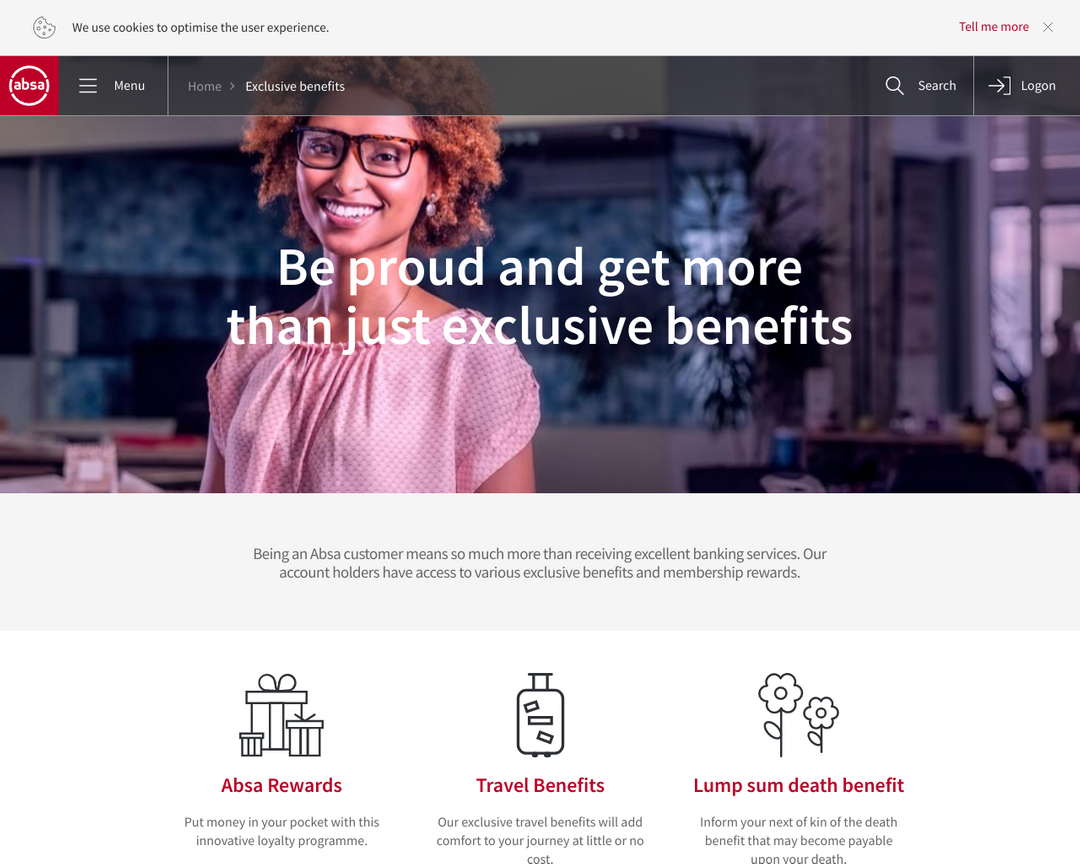ABSA: (7, 63, 52, 111)
